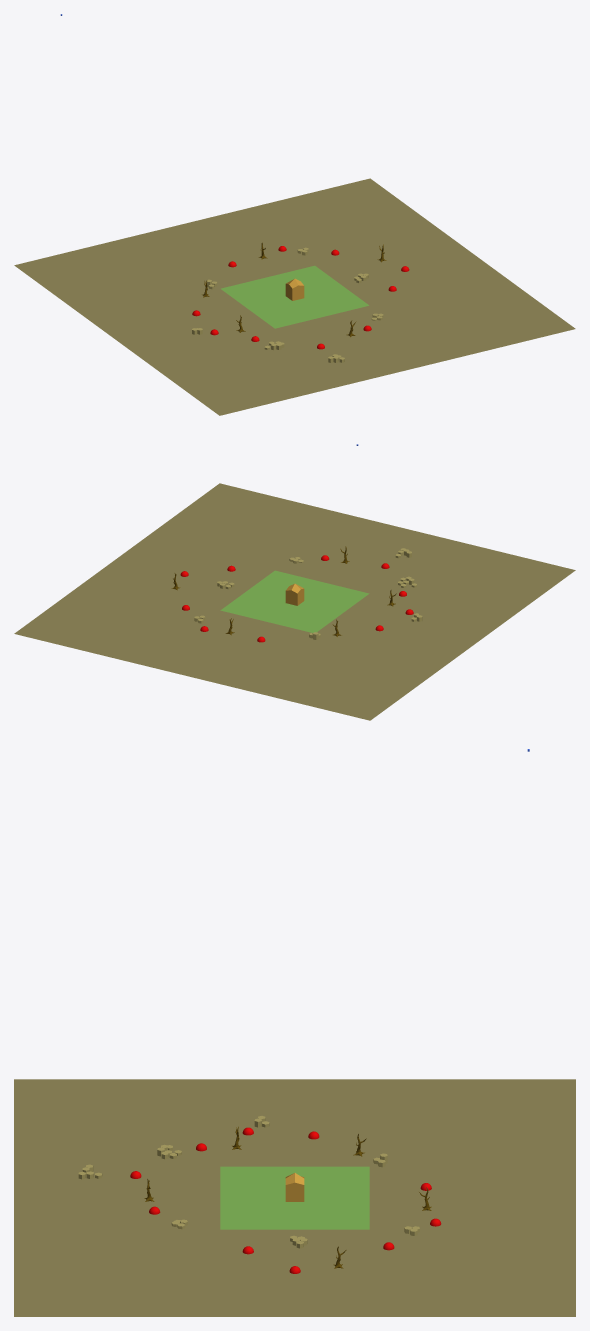
Rendered from TestLevel.fbx.
3 views of the same model, one above another, from view 1: azimuth 30°, elevation 25°; view 2: azimuth 150°, elevation 25°; view 3: azimuth 270°, elevation 25° (orthographic). The views are drawn at different scales.
Parts seen in each view (by area): view 1: Landscape; view 2: Landscape, House; view 3: Landscape.
Boxes of the visible parts, left/top/right/bottom form: Landscape: left=14, top=178, right=575, bottom=415; Landscape: left=14, top=483, right=575, bottom=720; House: left=285, top=583, right=304, bottom=605; Landscape: left=14, top=1079, right=575, bottom=1316.
Size of the model in its own units: 60 by 43.24 by 60.
